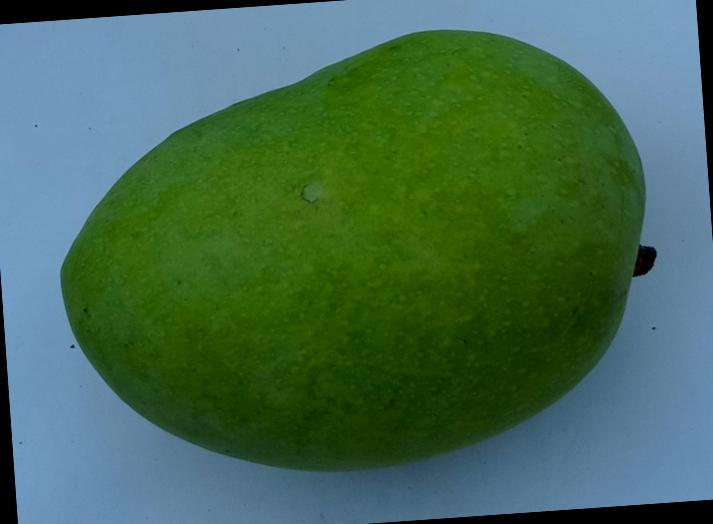Mango Unripe: (20, 0, 705, 514)
